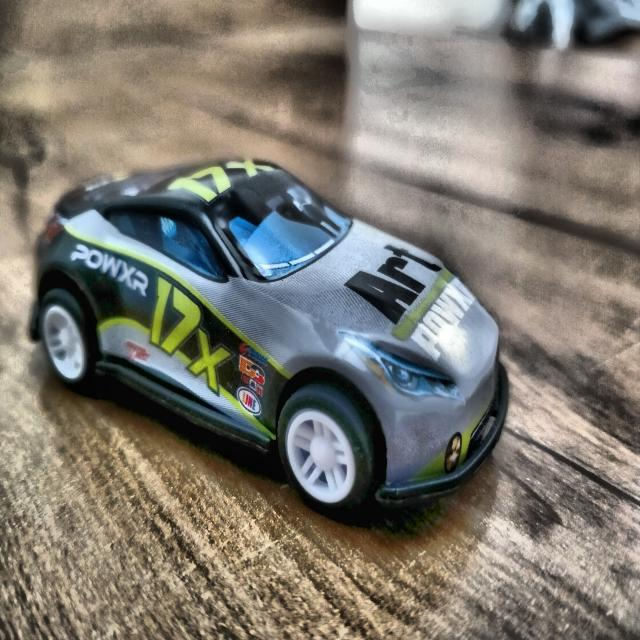Car: (34, 160, 509, 510)
